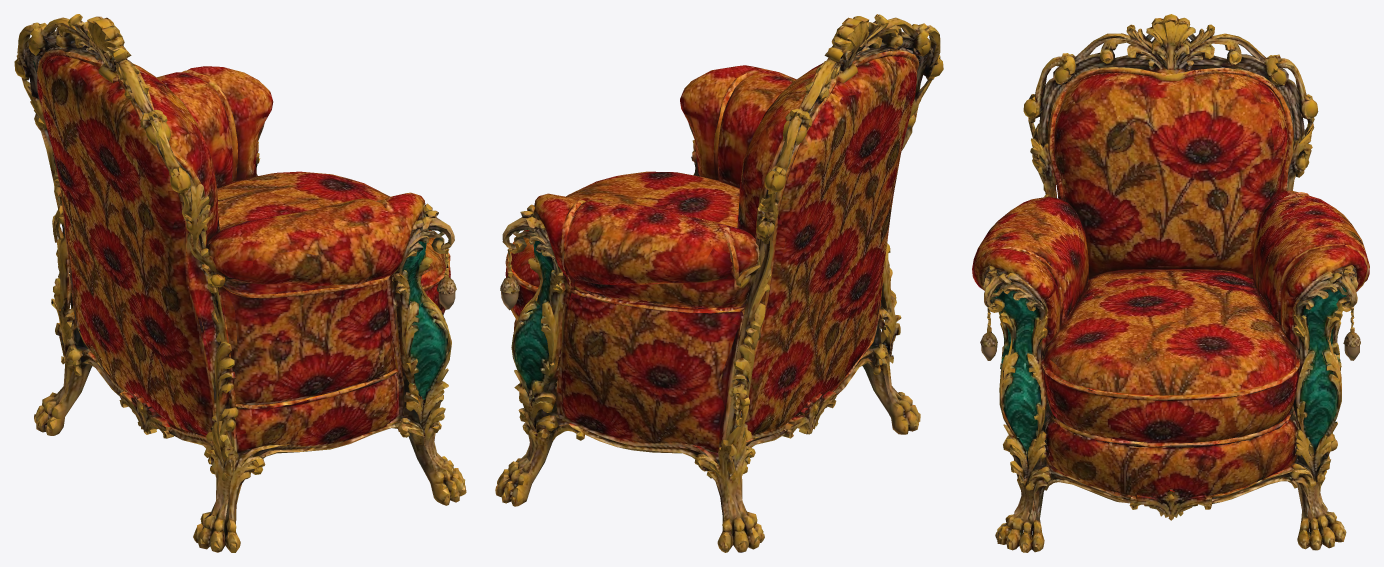
The model's file is MO-02_armchair_game.glb.
3 renders of one model, left to right at view 1: azimuth 30°, elevation 25°; view 2: azimuth 150°, elevation 25°; view 3: azimuth 270°, elevation 25°, orthographic. The views are drawn at different scales.
Visible parts, largest first — view 1: MO-02_armchair; view 2: MO-02_armchair; view 3: MO-02_armchair.
Boxes of the visible parts, x1,y1,x2,y2 form: MO-02_armchair: (14,14,466,552); MO-02_armchair: (495,14,943,552); MO-02_armchair: (972,14,1369,552).
Size of the model in its own units: 0.725 by 0.9797 by 0.8447.
Materials: 1 (1 with a texture image).
